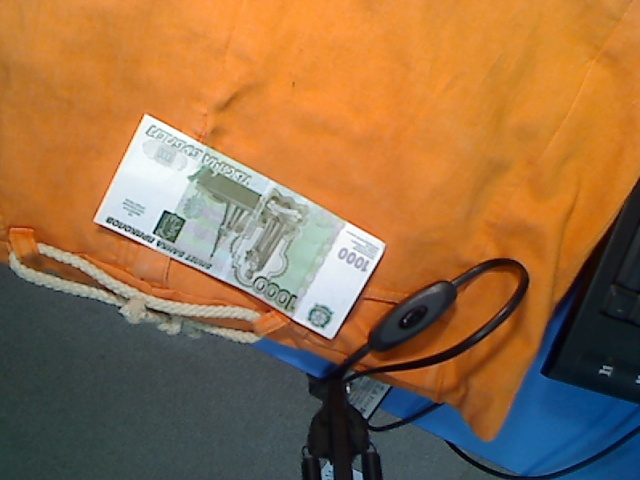banknotes: (92, 113, 387, 342)
